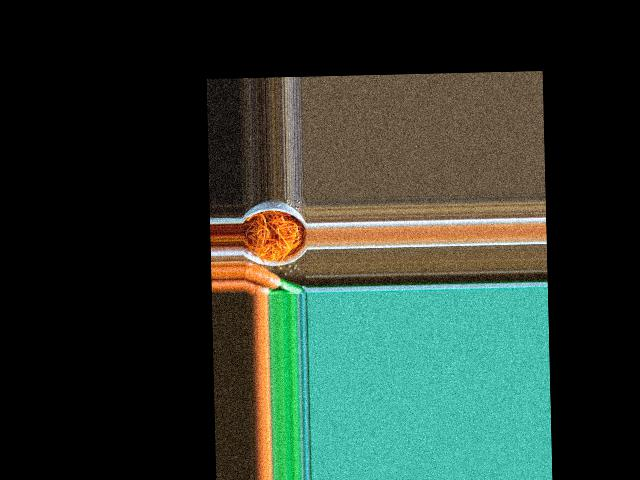carrot: (244, 265, 282, 288)
